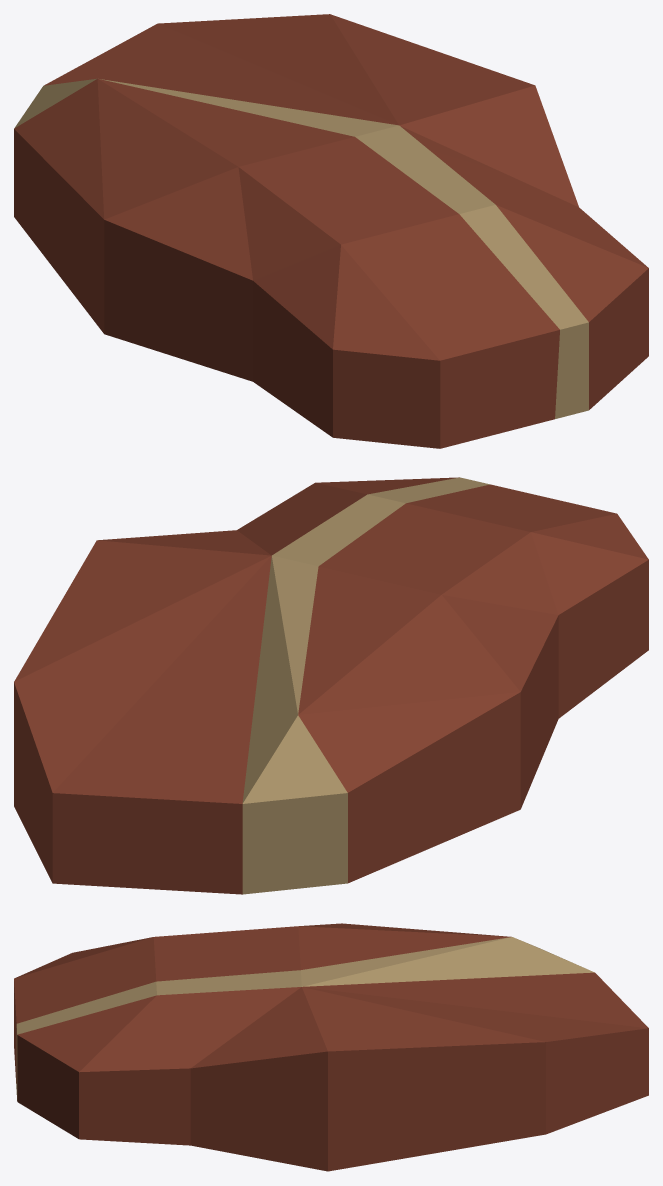
The model's file is SM_Prop_Meat_02.gltf.
The picture shows the model from 3 angles, top to bottom: view 1: azimuth 30°, elevation 25°; view 2: azimuth 150°, elevation 25°; view 3: azimuth 270°, elevation 25°; orthographic projection. The views are drawn at different scales.
Visible parts, largest first — view 1: SM_Prop_Meat_02; view 2: SM_Prop_Meat_02; view 3: SM_Prop_Meat_02.
Boxes of the visible parts, box(x1,y1,x2,y2) form: SM_Prop_Meat_02: box(14, 14, 648, 448); SM_Prop_Meat_02: box(14, 477, 648, 894); SM_Prop_Meat_02: box(14, 923, 648, 1171).
Bounding box in the file's own units: 0.2267 × 0.0901 × 0.3872.
Materials: 1 (1 with a texture image).
